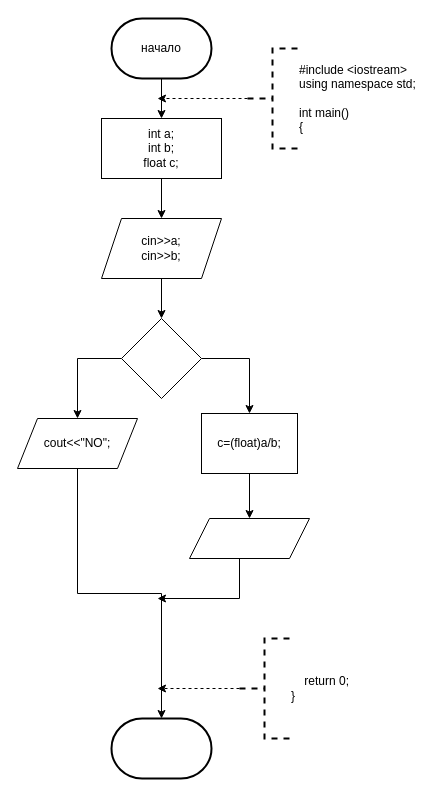
This 434x796 diagram has some shape labels left out. The shapes that lost their labels are listed below. From the top down, each one's centre as x and y in pixels, then its label:
At (161,358): "if (b==0){".
At (249,538): "cout<<c;".
At (161,748): "конец".
